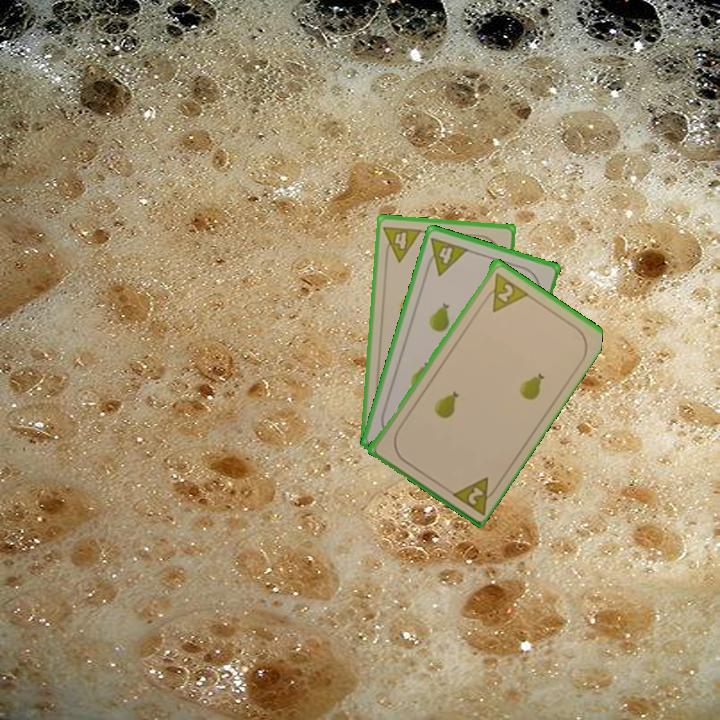2p: (446, 473, 502, 517), (479, 269, 530, 315)
4p: (422, 233, 471, 278), (380, 222, 424, 264)
